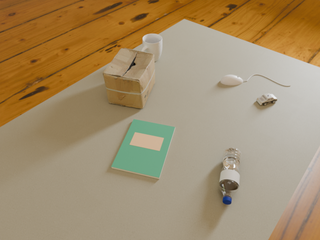book: (111, 119, 175, 179)
bottle: (219, 147, 241, 204)
box: (103, 48, 155, 109)
cup: (142, 34, 162, 62)
mouse: (221, 75, 243, 85)
toy_car: (256, 93, 277, 105)
